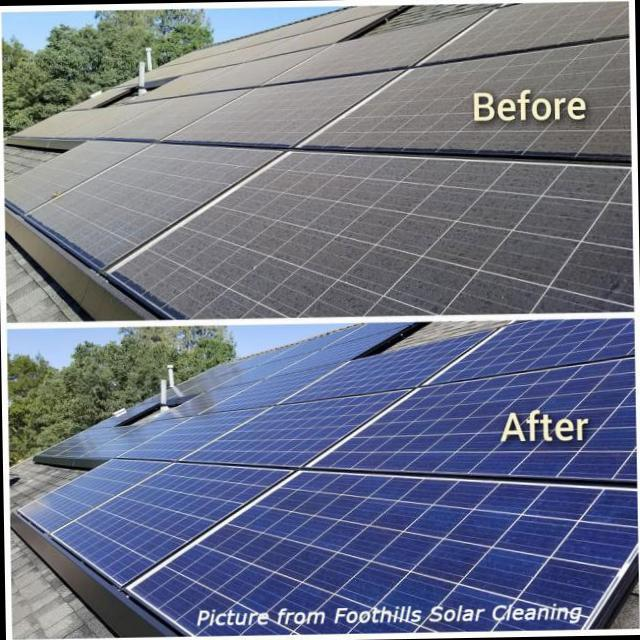faulty: (123, 150, 631, 320), (313, 39, 629, 147), (36, 147, 280, 259), (159, 80, 401, 148), (282, 18, 474, 79), (426, 3, 630, 60), (3, 137, 137, 210), (100, 90, 244, 139)
no faulty: (132, 470, 640, 634), (314, 363, 640, 478), (53, 460, 289, 586), (185, 387, 424, 467), (289, 330, 489, 396), (450, 323, 634, 375), (27, 458, 158, 525), (118, 409, 253, 460)
